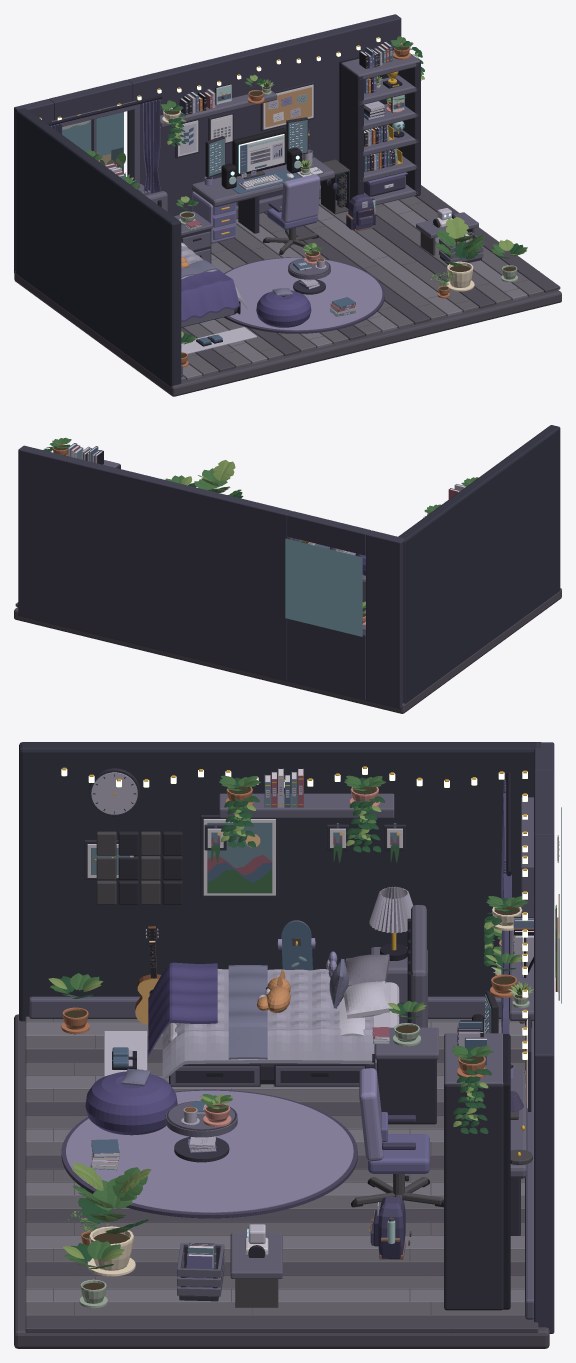
Rendered from tecnologia-room.glb.
The picture shows the model from 3 angles, top to bottom: view 1: azimuth 30°, elevation 25°; view 2: azimuth 150°, elevation 25°; view 3: azimuth 270°, elevation 25°; orthographic projection. The views are drawn at different scales.
Visible parts, largest first — view 1: room_MAT_WALL_SHADOW, room_MAT_WALL, room_MAT_FLOOR_DARK, room_MAT_FLOOR, room_MAT_OAK_LIGHT, room_MAT_OAK, room_MAT_FLOOR_LIGHT, room_MAT_RUG_CREAM, room_MAT_TEXTILE_ROSE, room_MAT_PINK, room_MAT_PAPER, room_MAT_PINK_LIGHT (+24 smaller); view 2: room_MAT_WALL, room_MAT_WALL_SHADOW, room_MAT_EXTERIOR_UNLIT_MAT_OUTDOOR_SKY, room_MAT_FLOOR_DARK, room_MAT_BOT_LEAF, room_MAT_BOT_LEAF_LIME; view 3: room_MAT_WALL_SHADOW, room_MAT_FLOOR_DARK, room_MAT_FLOOR, room_MAT_OAK, room_MAT_RUG_CREAM, room_MAT_OAK_LIGHT, room_MAT_FLOOR_LIGHT, room_MAT_WALL, room_MAT_TEXTILE_IVORY, room_MAT_TEXTILE_ROSE, room_MAT_TRIM, room_MAT_METAL (+27 smaller).
Part boxes in pixels (box(x1,y1,x2,y2)): room_MAT_WALL_SHADOW: box(16, 108, 181, 386); room_MAT_WALL: box(14, 14, 401, 272); room_MAT_FLOOR_DARK: box(14, 185, 561, 396); room_MAT_FLOOR: box(181, 196, 543, 381); room_MAT_OAK_LIGHT: box(129, 50, 483, 326); room_MAT_OAK: box(175, 54, 481, 327); room_MAT_FLOOR_LIGHT: box(183, 200, 527, 380); room_MAT_RUG_CREAM: box(225, 257, 382, 330); room_MAT_TEXTILE_ROSE: box(181, 269, 311, 327); room_MAT_PINK: box(51, 51, 472, 289); room_MAT_PAPER: box(105, 42, 468, 315); room_MAT_PINK_LIGHT: box(192, 96, 405, 243); room_MAT_WALL: box(18, 445, 404, 708); room_MAT_WALL_SHADOW: box(397, 425, 560, 703); room_MAT_EXTERIOR_UNLIT_MAT_OUTDOOR_SKY: box(285, 538, 362, 636); room_MAT_FLOOR_DARK: box(14, 588, 561, 713); room_MAT_BOT_LEAF: box(45, 437, 478, 613); room_MAT_BOT_LEAF_LIME: box(181, 460, 365, 613); room_MAT_WALL_SHADOW: box(19, 742, 540, 1021); room_MAT_FLOOR_DARK: box(14, 1014, 549, 1348); room_MAT_FLOOR: box(25, 1016, 524, 1315); room_MAT_OAK: box(84, 768, 531, 1310); room_MAT_RUG_CREAM: box(66, 1090, 353, 1212); room_MAT_OAK_LIGHT: box(165, 793, 533, 1296); room_MAT_FLOOR_LIGHT: box(25, 1022, 524, 1302); room_MAT_WALL: box(534, 742, 554, 1333); room_MAT_TEXTILE_IVORY: box(162, 969, 373, 1079); room_MAT_TEXTILE_ROSE: box(85, 962, 217, 1135); room_MAT_TRIM: box(29, 797, 533, 1319); room_MAT_METAL: box(96, 831, 532, 1307).
Size of the model in its own units: 7.57 by 3.2 by 5.47.
